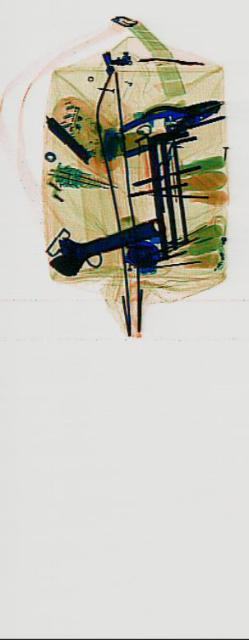Pliers: (142, 82, 221, 148)
Wrench: (46, 201, 165, 283)
